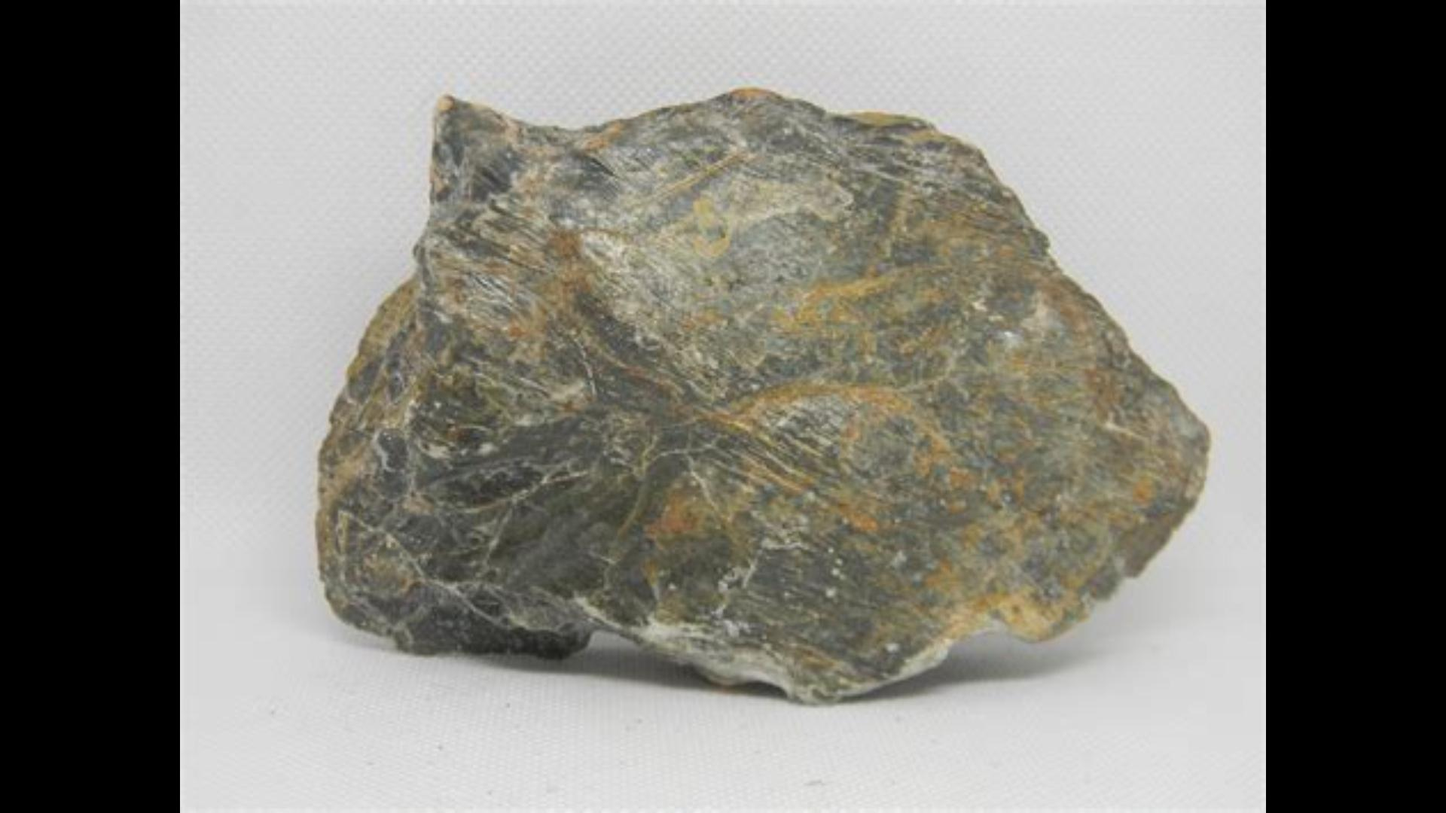rock: (320, 92, 1204, 696)
